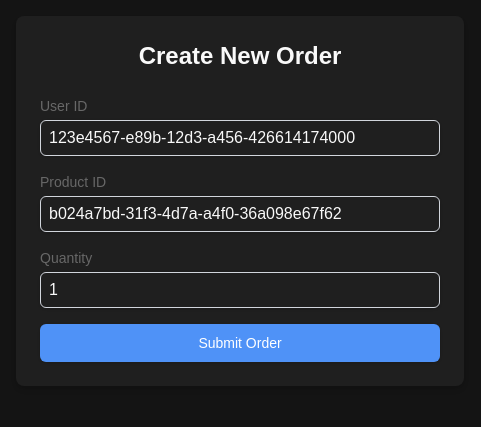
Test case: CreateOrderForm › validates user ID
This screenshot has width=481, height=427.
Note: Clear the product ID field which has a default value
Clear the field labelled "User ID" at (240, 138), box [40,120,440,156]
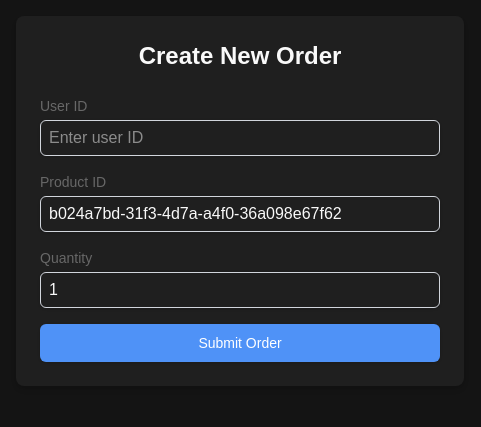
Note: Submit the form
Click the button "Submit Order" at (240, 343), box [40,324,440,362]
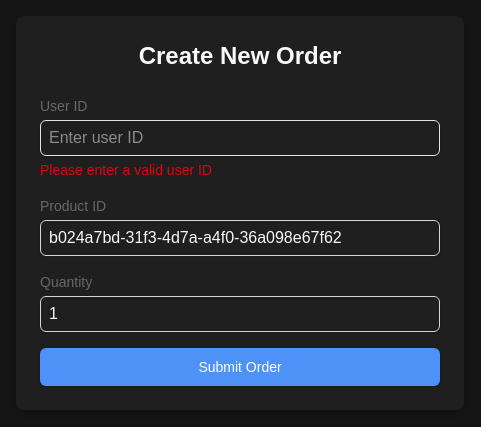
Check: the text "Please enter a valid user ID" is shown, box [40,162,212,178]
